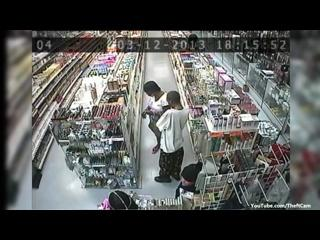Normal: (153, 91, 190, 183), (142, 81, 170, 152)
